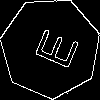E: (25, 23, 80, 71)
